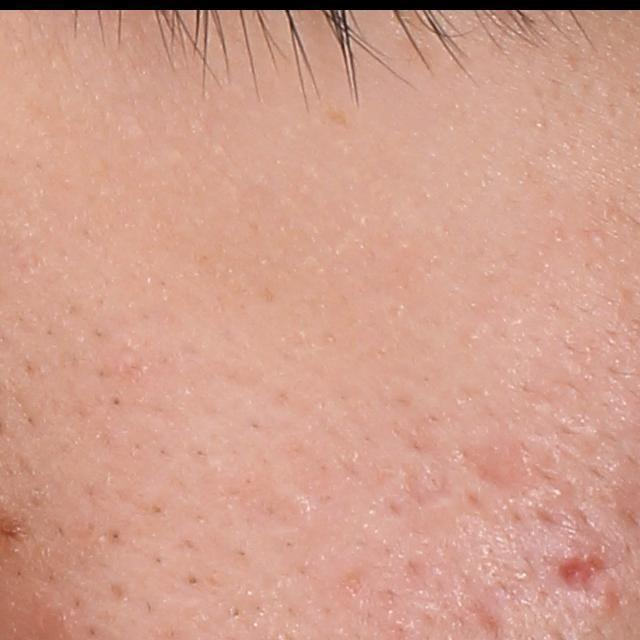atrophic_scar: (465, 448, 534, 496), (553, 548, 616, 592)
